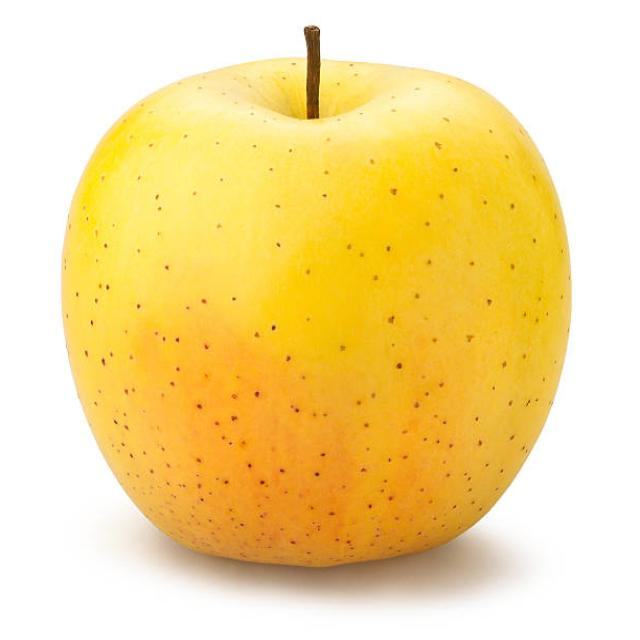Apel: (61, 53, 574, 568)
